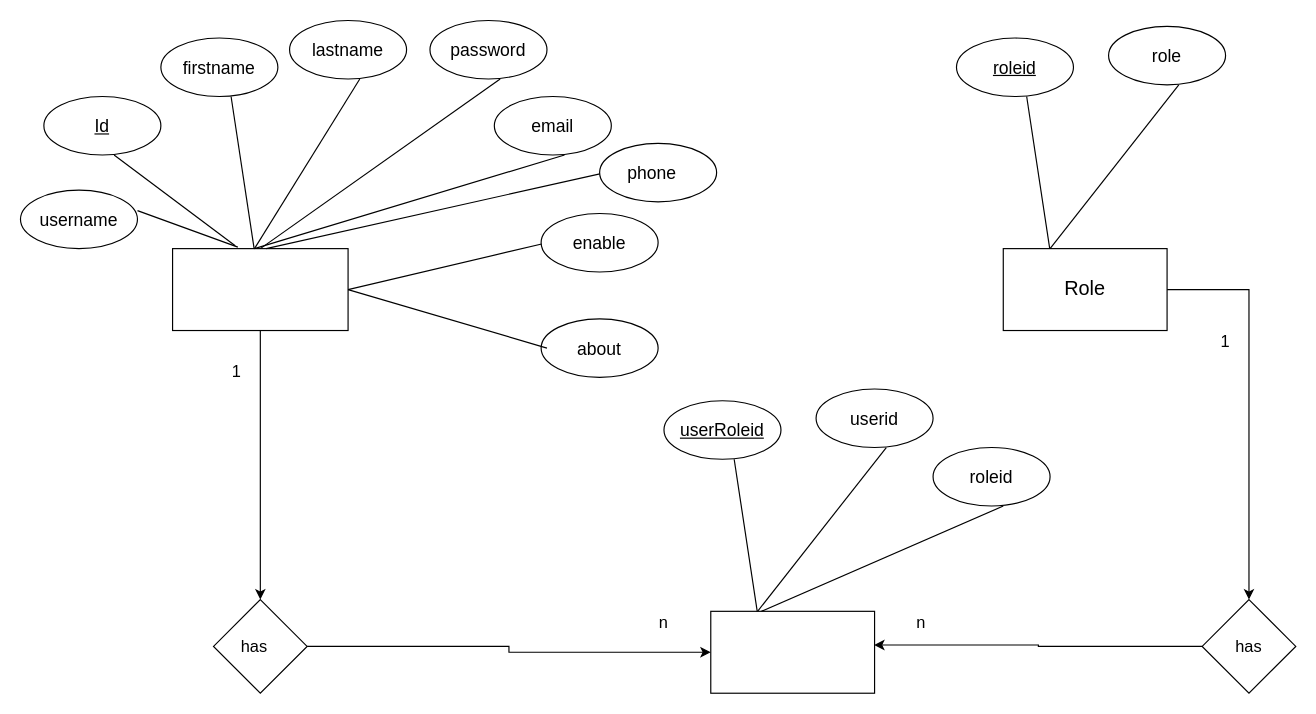
Image size: 1316x714. Some labels were removed from this diagram. Here are the shapes that lost their labels. From the top down, the box of each, then its label:
(171, 247, 348, 331): User
(710, 610, 875, 693): UserRole
